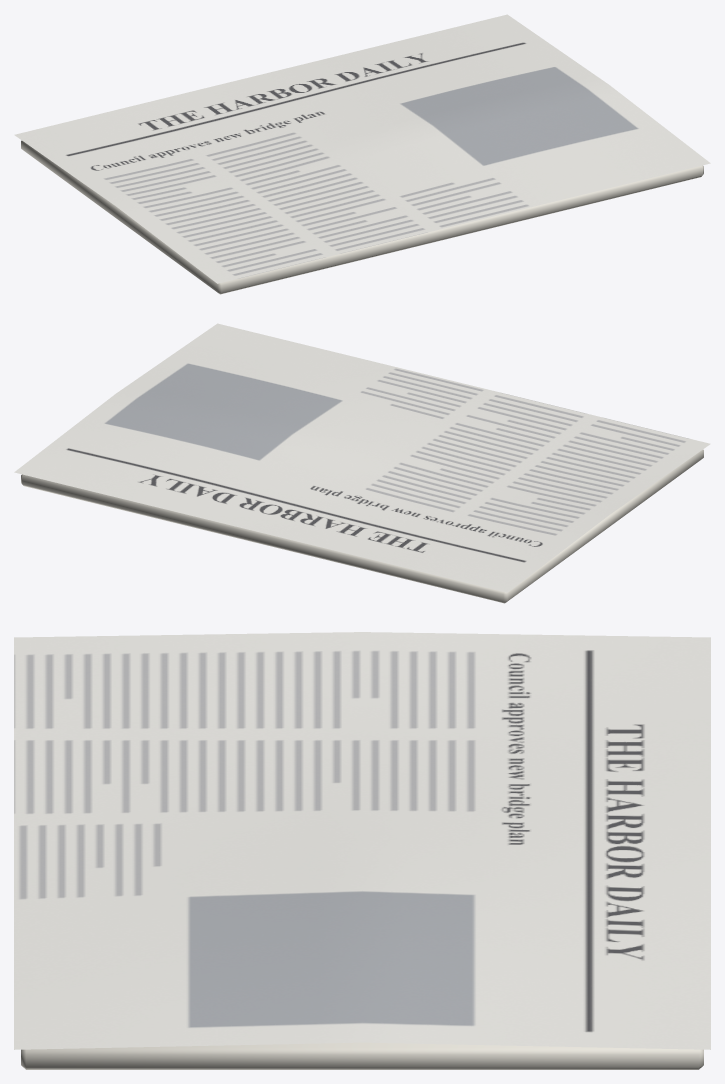
File: newspaper.glb
The picture shows the model from 3 angles, top to bottom: view 1: azimuth 30°, elevation 25°; view 2: azimuth 150°, elevation 25°; view 3: azimuth 270°, elevation 25°; orthographic projection. The views are drawn at different scales.
Visible parts, largest first — view 1: newspaper; view 2: newspaper; view 3: newspaper.
Boxes of the visible parts, left/top/right/bottom form: newspaper: left=14, top=14, right=710, bottom=294; newspaper: left=14, top=323, right=710, bottom=603; newspaper: left=14, top=632, right=710, bottom=1069.
Bounding box in the file's own units: 0.28 × 0.012 × 0.2.
Materials: 2 (1 with a texture image).
